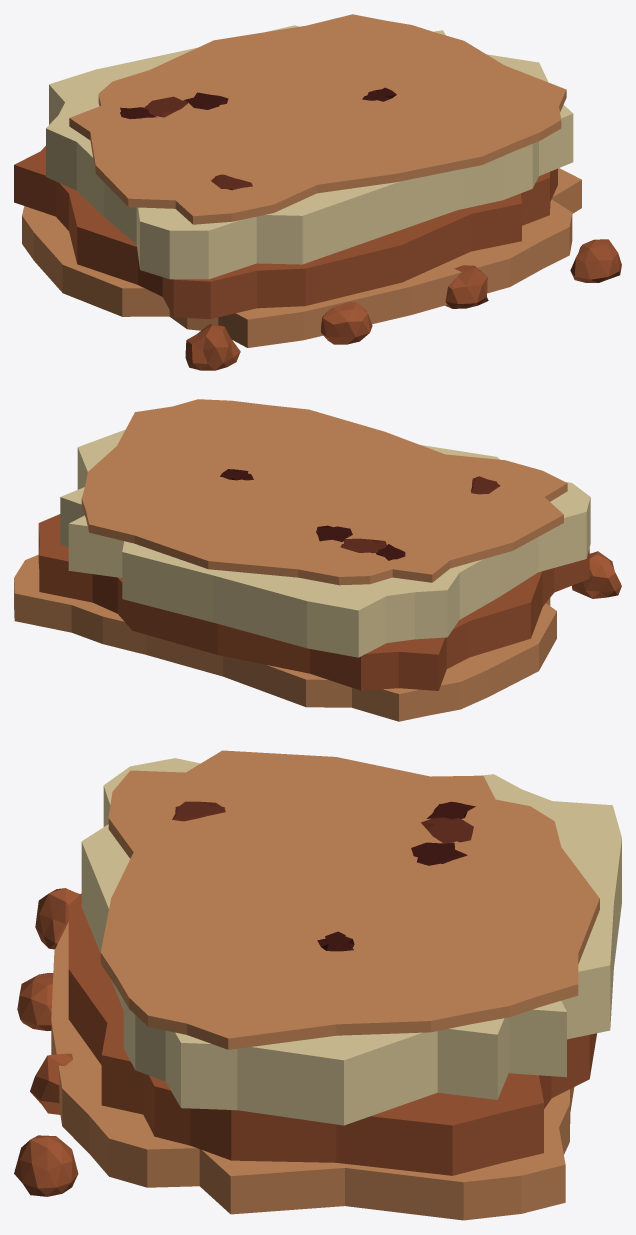
The model's file is redrock_ledge_1.glb.
The picture shows the model from 3 angles, top to bottom: view 1: azimuth 30°, elevation 25°; view 2: azimuth 150°, elevation 25°; view 3: azimuth 270°, elevation 25°; orthographic projection. The views are drawn at different scales.
Visible parts, largest first — view 1: redrock_ledge_1; view 2: redrock_ledge_1; view 3: redrock_ledge_1.
Part boxes in pixels (<box>): redrock_ledge_1: <box>14,14,621,370</box>; redrock_ledge_1: <box>14,399,621,721</box>; redrock_ledge_1: <box>14,750,621,1220</box>.
Size of the model in its own units: 12.38 by 3.1 by 10.01.
